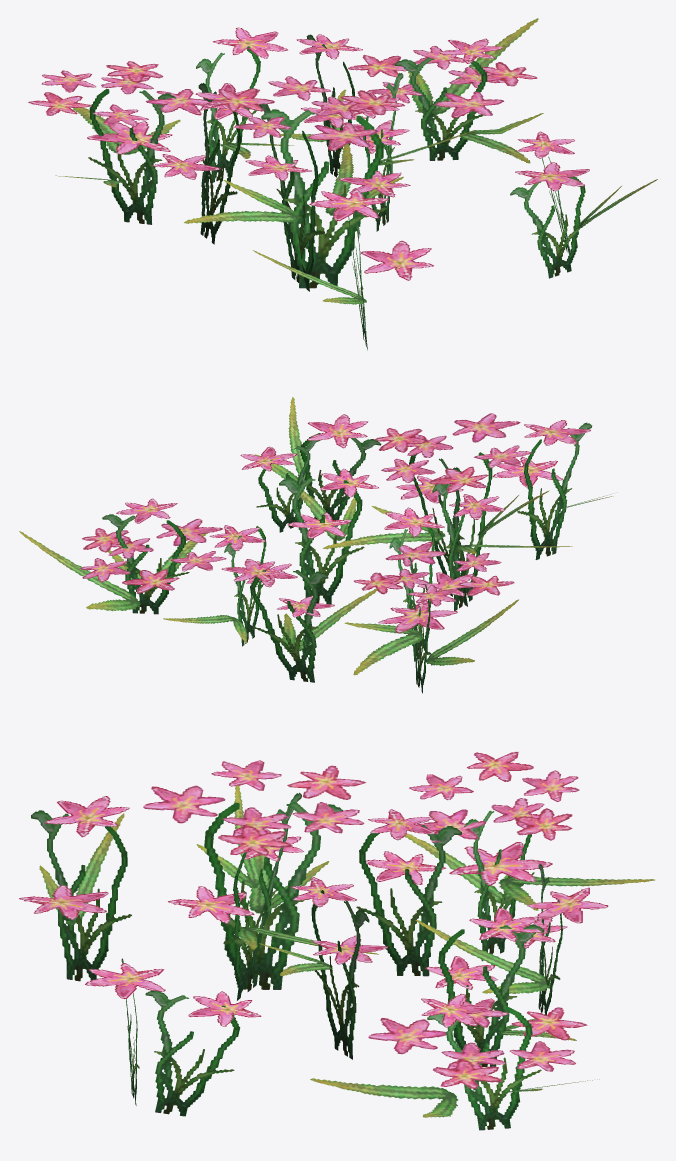
File: nml-bd060.glb
The picture shows the model from 3 angles, top to bottom: view 1: azimuth 30°, elevation 25°; view 2: azimuth 150°, elevation 25°; view 3: azimuth 270°, elevation 25°; orthographic projection. The views are drawn at different scales.
Parts seen in each view (by area): view 1: geom_node_0; view 2: geom_node_0; view 3: geom_node_0.
Part boxes in pixels (x1,y1,x2,y2): geom_node_0: (28, 18, 657, 350); geom_node_0: (19, 397, 613, 693); geom_node_0: (19, 751, 654, 1130).
Bounding box in the file's own units: 6.34 × 1.94 × 5.83.
1 material, 1 textured.
